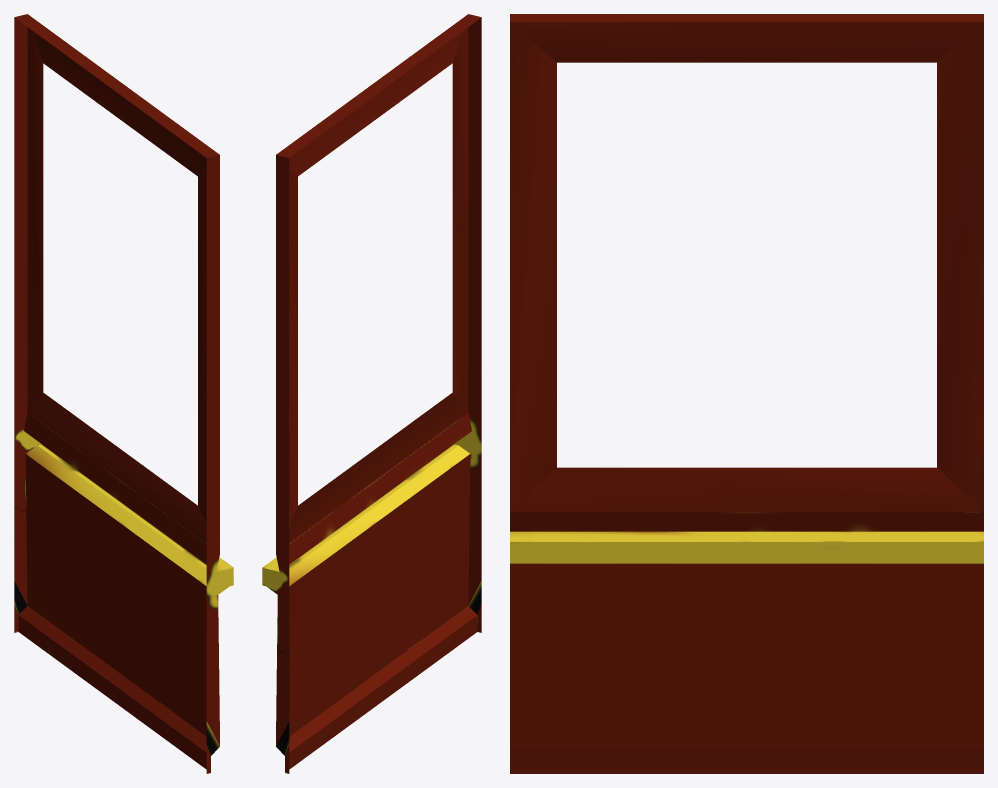
The model's file is textury3,2.fbx.
3 views of the same model, side by side, from view 1: azimuth 30°, elevation 25°; view 2: azimuth 150°, elevation 25°; view 3: azimuth 270°, elevation 25° (orthographic). The views are drawn at different scales.
Parts seen in each view (by area): view 1: Plane.013; view 2: Plane.013; view 3: Plane.013.
Boxes of the visible parts, x1=… form: Plane.013: x1=14, y1=14, x2=233, y2=773; Plane.013: x1=262, y1=14, x2=481, y2=773; Plane.013: x1=510, y1=14, x2=983, y2=773.
Size of the model in its own units: 60.84 by 1323 by 750.
Materials: 1 (1 with a texture image).
